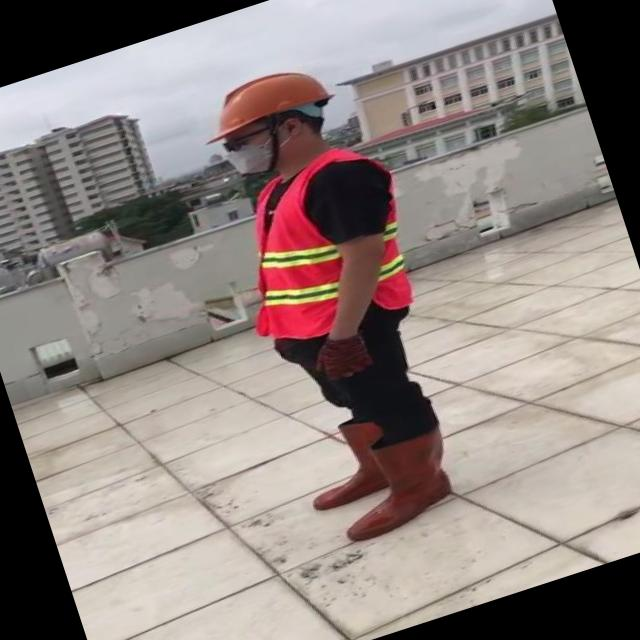hard_hat: (195, 53, 339, 146)
safety_vest: (209, 143, 431, 356)
vehicle: (158, 39, 524, 574)
work_boots: (323, 426, 468, 546), (292, 414, 404, 515)
